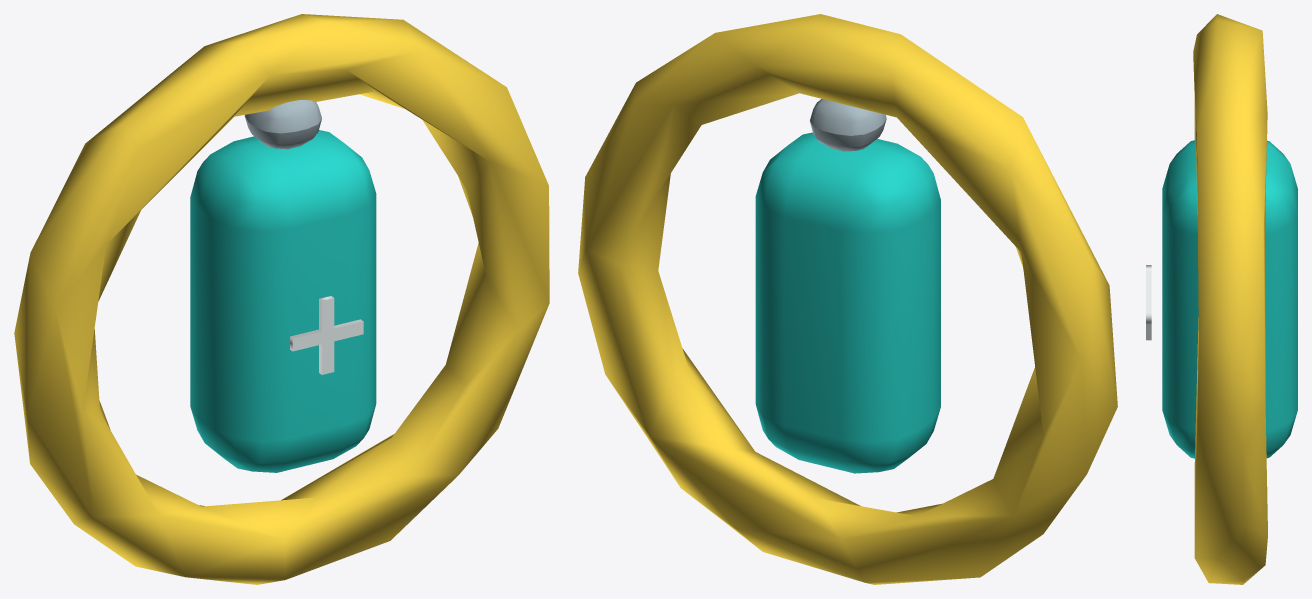
Rendered from Pickup_battery_LOD2.glb.
The picture shows the model from 3 angles, left to right: view 1: azimuth 30°, elevation 25°; view 2: azimuth 150°, elevation 25°; view 3: azimuth 270°, elevation 25°; orthographic projection. The views are drawn at different scales.
Parts seen in each view (by area): view 1: Pickup ring, Battery, Terminal, Charge; view 2: Pickup ring, Battery, Terminal; view 3: Pickup ring, Battery, Charge.
Part boxes in pixels (box(x1,y1,x2,y2)): Pickup ring: box(14, 14, 549, 584); Battery: box(190, 130, 376, 472); Terminal: box(244, 100, 321, 149); Charge: box(290, 296, 363, 374); Pickup ring: box(578, 14, 1117, 584); Battery: box(755, 132, 940, 473); Terminal: box(810, 99, 886, 151); Pickup ring: box(1193, 14, 1267, 584); Battery: box(1162, 140, 1297, 458); Charge: box(1146, 265, 1151, 340).
Bounding box in the file's own units: 0.845 × 0.8465 × 0.224.
